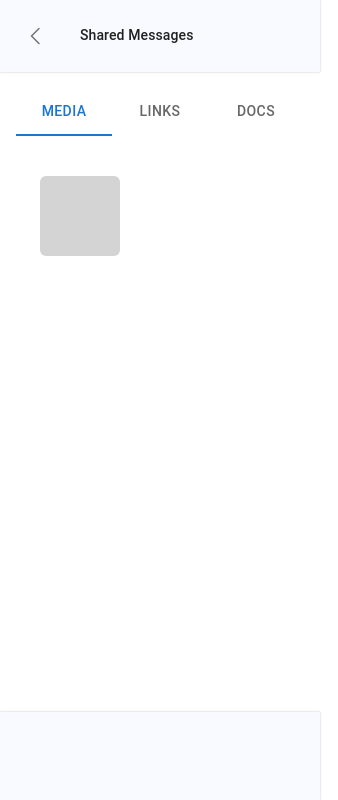
SharedMessages › renders shared media, links and documents from the active group chat
This screenshot has width=338, height=800.
Click the tab "Links": click(160, 112) [112,88,208,136]
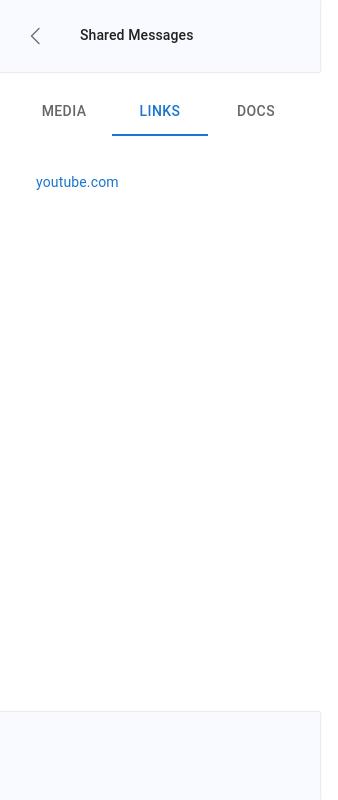
Expected: the link "youtube.com" is shown, [36,174,119,190]
Click the tab "Docs": click(256, 112) [208,88,304,136]
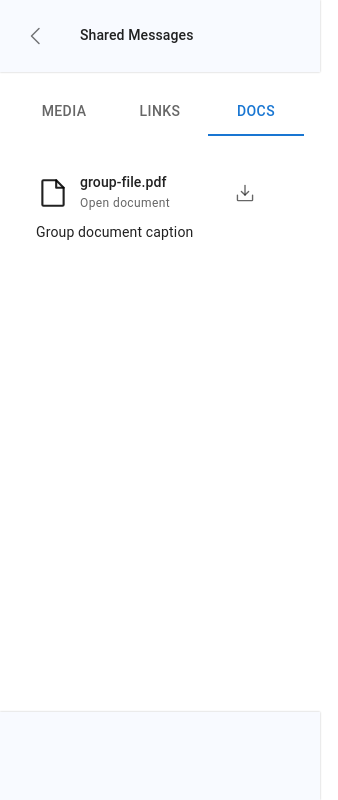
Expected: the heading "group-file.pdf" is shown, [80,174,167,190]
Expected: the text "Group document caption" is shown, [36,224,193,240]
